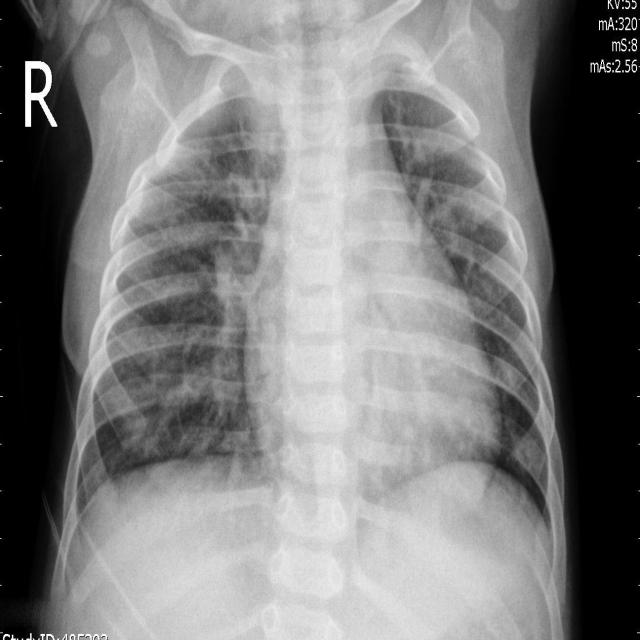high-pneumonia: (232, 60, 284, 176)
low-pneumonia: (398, 135, 476, 259), (207, 216, 255, 411)
